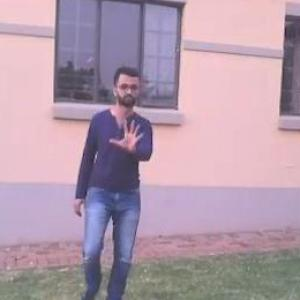follow_hand: (108, 116, 144, 154)
